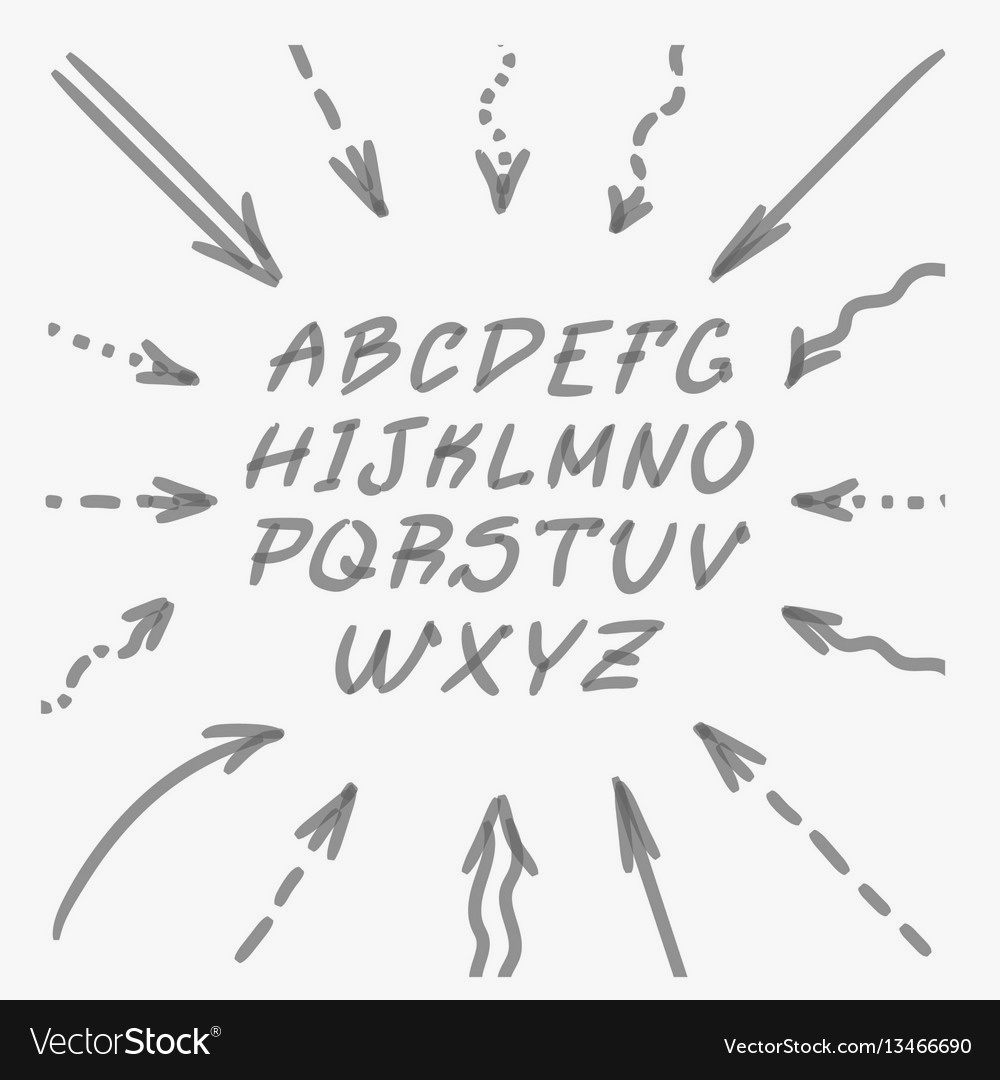arrow: (697, 722, 827, 852), (709, 161, 842, 283), (147, 186, 286, 290), (446, 791, 544, 922), (784, 287, 894, 393), (606, 776, 675, 929), (294, 115, 391, 221), (272, 783, 359, 897), (91, 321, 202, 391), (775, 599, 876, 669), (465, 120, 536, 219), (167, 721, 287, 779), (787, 469, 907, 526), (125, 473, 220, 534), (604, 146, 668, 236), (104, 596, 176, 672)
